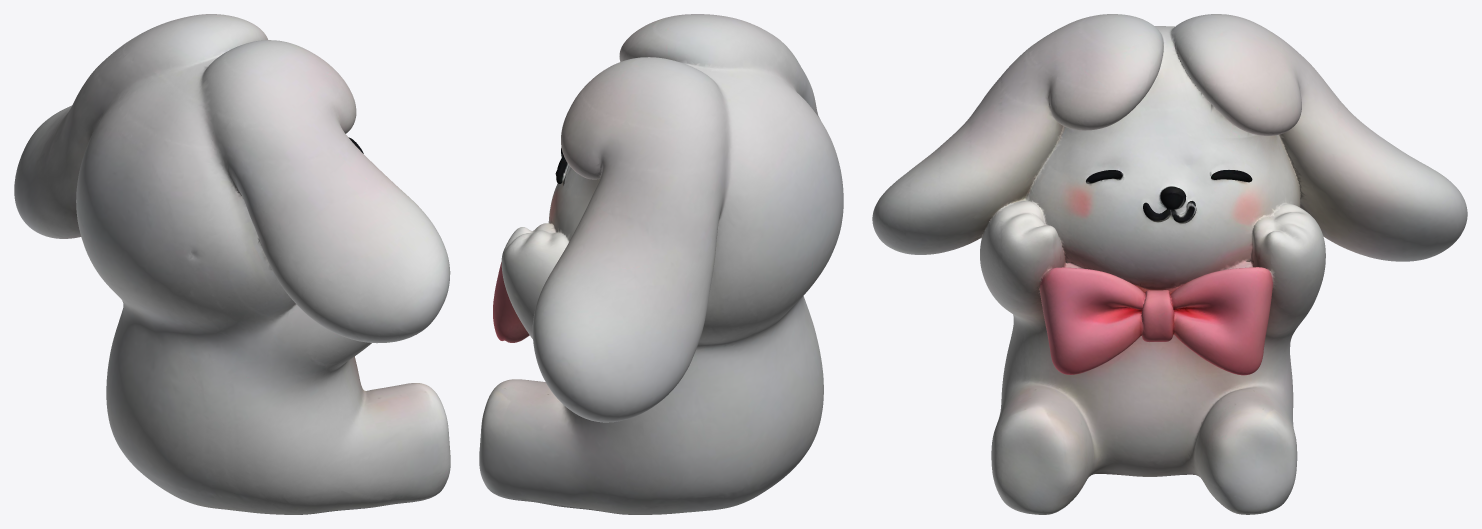
The model's file is maro-inu-banzai.glb.
3 views of the same model, side by side, from view 1: azimuth 30°, elevation 25°; view 2: azimuth 150°, elevation 25°; view 3: azimuth 270°, elevation 25° (orthographic). The views are drawn at different scales.
Parts seen in each view (by area): view 1: tripo_node_de4c168b-8304-4cda-8ee0-9107b50906ca; view 2: tripo_node_de4c168b-8304-4cda-8ee0-9107b50906ca; view 3: tripo_node_de4c168b-8304-4cda-8ee0-9107b50906ca.
Boxes of the visible parts, box(x1,y1,x2,y2) form: tripo_node_de4c168b-8304-4cda-8ee0-9107b50906ca: box(14, 14, 450, 514); tripo_node_de4c168b-8304-4cda-8ee0-9107b50906ca: box(479, 14, 843, 514); tripo_node_de4c168b-8304-4cda-8ee0-9107b50906ca: box(872, 14, 1467, 514).
Size of the model in its own units: 0.547 by 0.8048 by 0.9999.
Materials: 1 (1 with a texture image).
